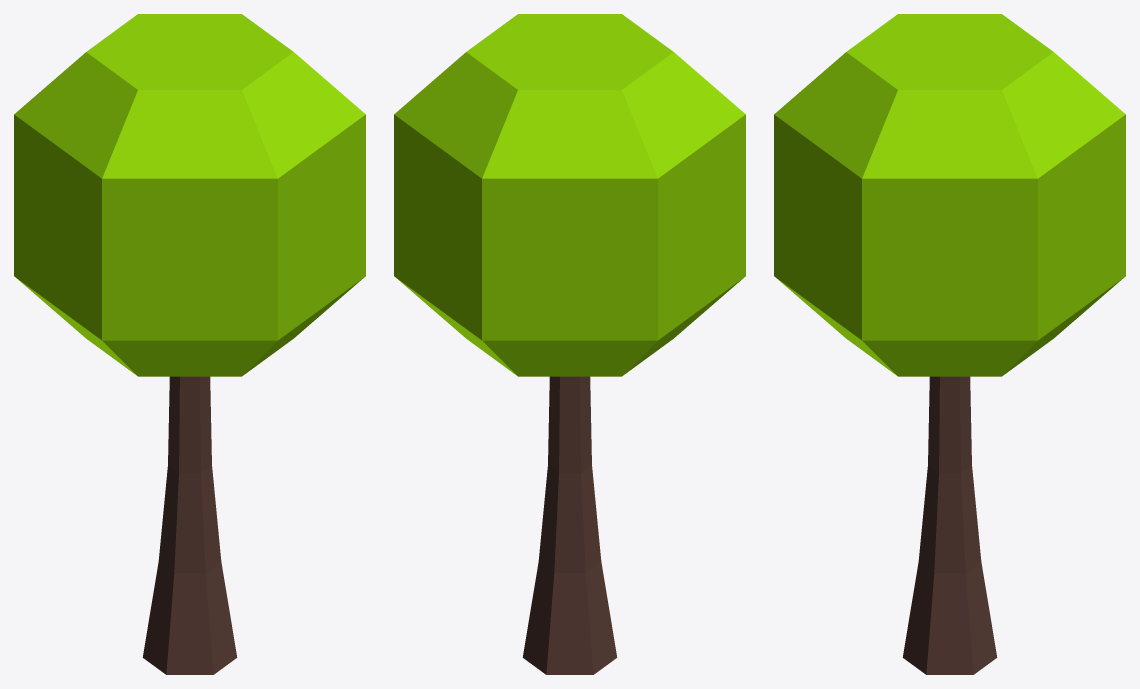
The model's file is Tree02.fbx.
The picture shows the model from 3 angles, left to right: view 1: azimuth 30°, elevation 25°; view 2: azimuth 150°, elevation 25°; view 3: azimuth 270°, elevation 25°; orthographic projection.
Parts seen in each view (by area): view 1: Cylinder.031; view 2: Cylinder.031; view 3: Cylinder.031.
Boxes of the visible parts, left/top/right/bottom form: Cylinder.031: left=14, top=14, right=365, bottom=674; Cylinder.031: left=394, top=14, right=745, bottom=674; Cylinder.031: left=774, top=14, right=1125, bottom=674.
Size of the model in its own units: 436 by 956 by 503.
